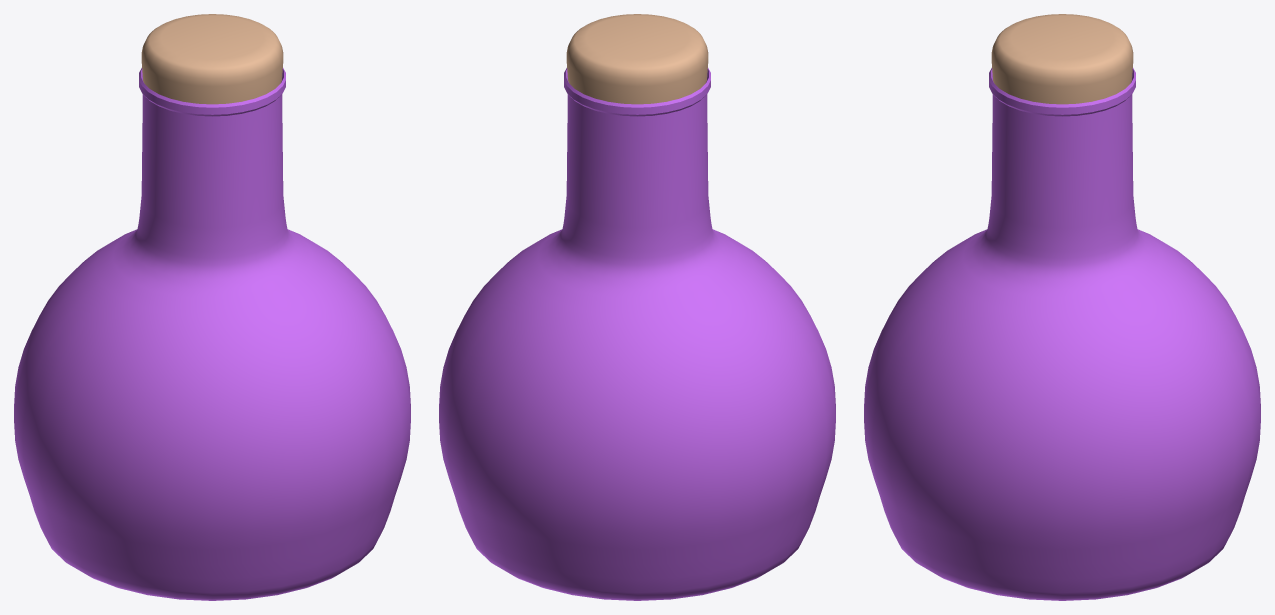
The model's file is beaker.fbx.
3 views of the same model, side by side, from view 1: azimuth 30°, elevation 25°; view 2: azimuth 150°, elevation 25°; view 3: azimuth 270°, elevation 25° (orthographic).
Parts seen in each view (by area): view 1: beaker02_GEO; view 2: beaker02_GEO; view 3: beaker02_GEO.
Part boxes in pixels (x1,y1,x2,y2): beaker02_GEO: [14, 14, 410, 600]; beaker02_GEO: [439, 14, 835, 600]; beaker02_GEO: [864, 14, 1260, 600].
Size of the model in its own units: 4.34 by 5.97 by 4.32.
